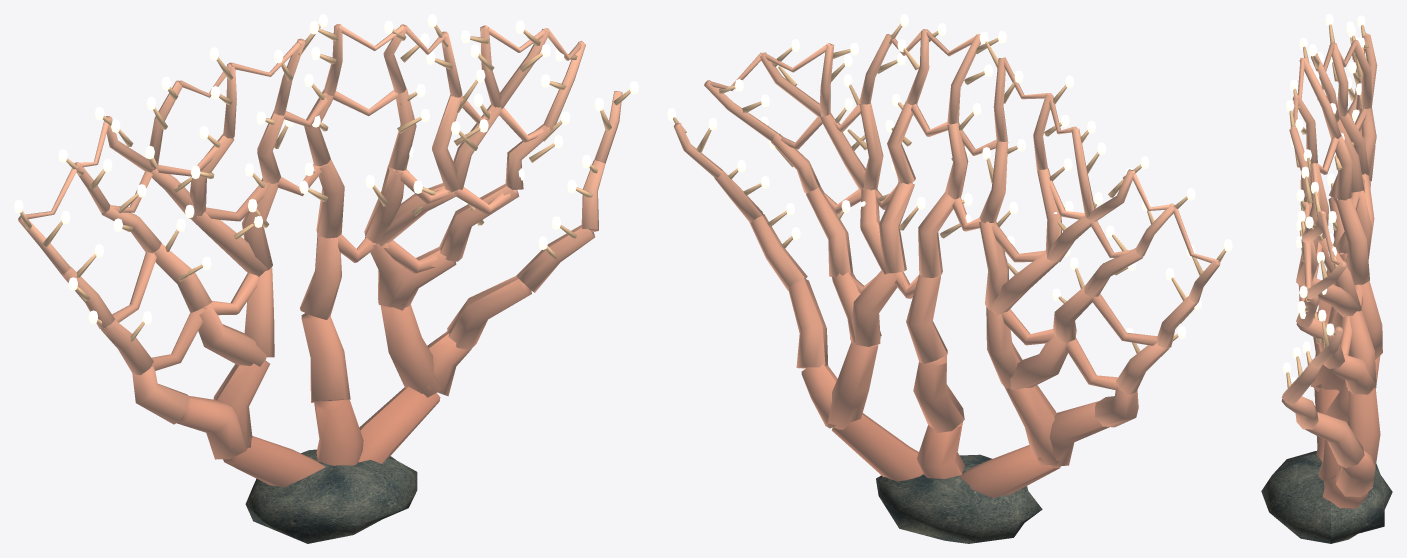
The model's file is coral.glb.
3 renders of one model, left to right at view 1: azimuth 30°, elevation 25°; view 2: azimuth 150°, elevation 25°; view 3: azimuth 270°, elevation 25°, orthographic. The views are drawn at different scales.
Visible parts, largest first — view 1: wax, mineral, polyp; view 2: wax, mineral, polyp; view 3: wax, mineral, polyp.
Boxes of the visible parts, <box> form: wax: <box>18,24,630,487</box>; mineral: <box>245,449,417,543</box>; polyp: <box>14,14,638,324</box>; wax: <box>673,23,1226,497</box>; mineral: <box>876,454,1042,543</box>; polyp: <box>667,14,1232,338</box>; wax: <box>1281,24,1382,508</box>; mineral: <box>1261,451,1392,543</box>; polyp: <box>1283,14,1365,383</box>.
Bounding box in the file's own units: 2.98 × 2.44 × 0.614.
3 materials, 1 textured.
